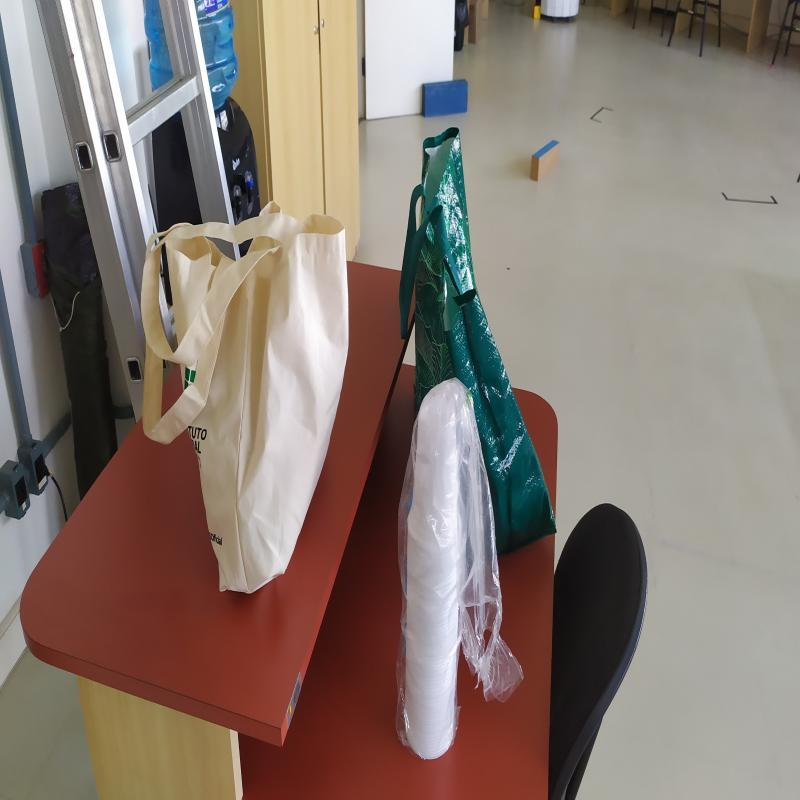Bag: (137, 198, 350, 598), (398, 127, 558, 555)
